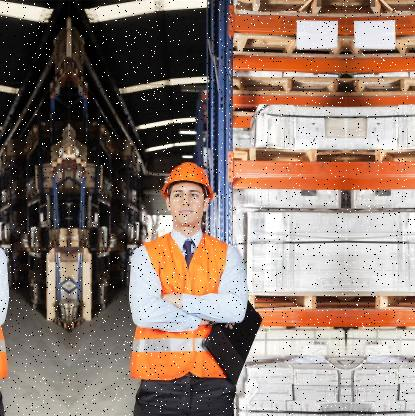helmet: (155, 152, 220, 233)
